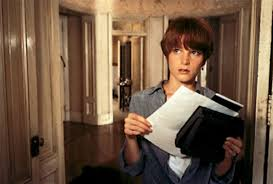white_female: (169, 29, 215, 86)
